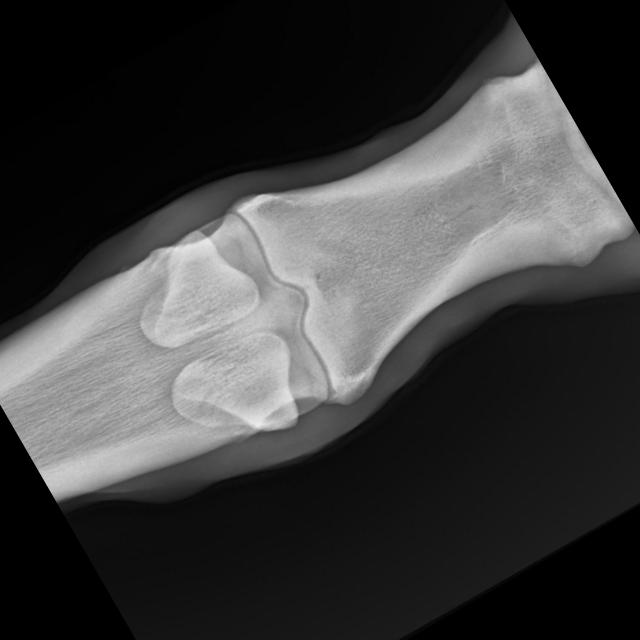joint-ht8A: (54, 99, 463, 534)
